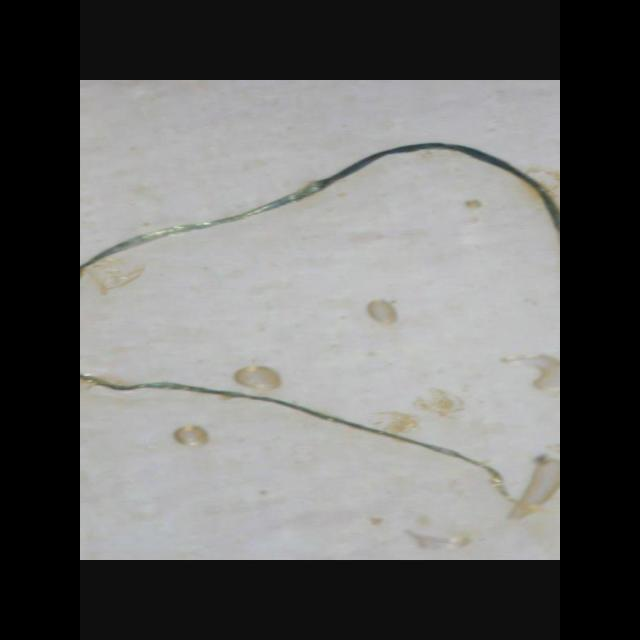Fibre: (80, 142, 560, 520)
